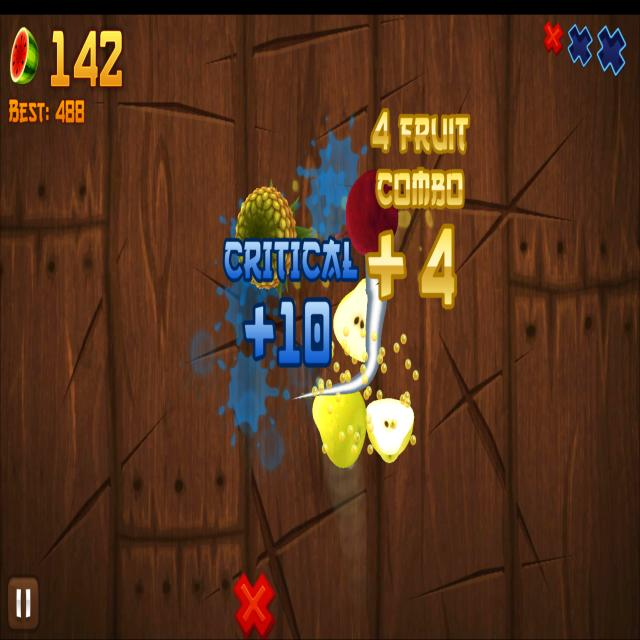fruit: (235, 185, 298, 290), (312, 384, 368, 469), (346, 168, 399, 255)
